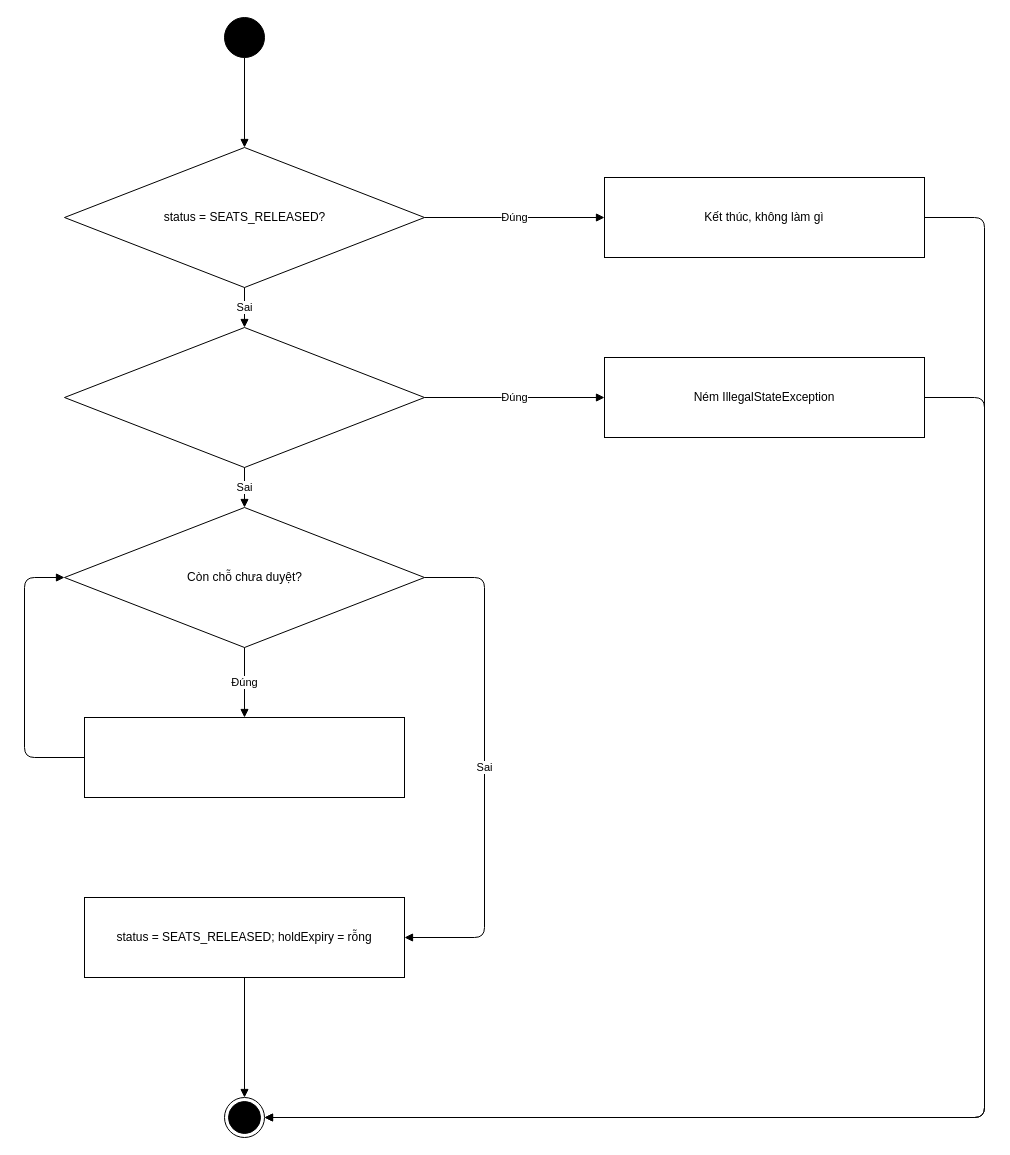
The diagram is 1010 pixels wide and 1155 high, and some of its shapes have lost their labels. Each missing label, with the centre of its shape:
seat.markAvailable(): the point at 244,757
status khác HOLDING?: the point at 244,397
